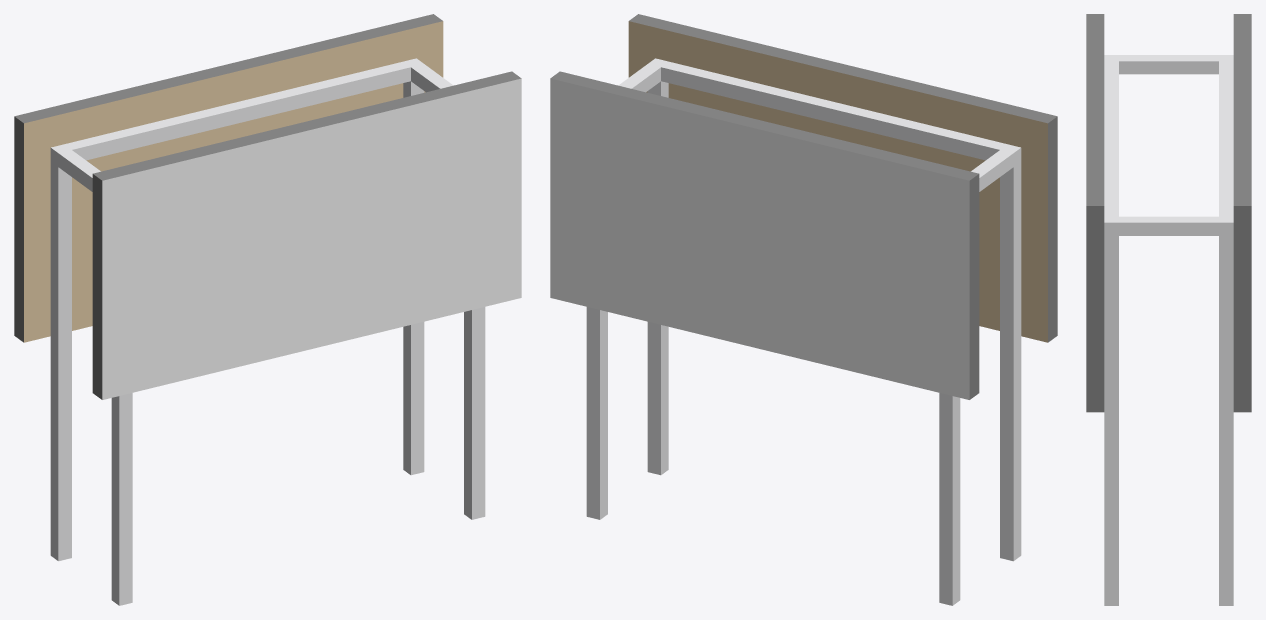
3 views of the same model, side by side, from view 1: azimuth 30°, elevation 25°; view 2: azimuth 150°, elevation 25°; view 3: azimuth 270°, elevation 25° (orthographic). The views are drawn at different scales.
Parts seen in each view (by area): view 1: billboardDouble_exclusive; view 2: billboardDouble_exclusive; view 3: billboardDouble_exclusive.
Part boxes in pixels (x1,y1,x2,y2): billboardDouble_exclusive: (14,14,521,605); billboardDouble_exclusive: (550,14,1057,605); billboardDouble_exclusive: (1086,14,1251,605).
Size of the model in its own units: 10 by 10 by 3.64.
